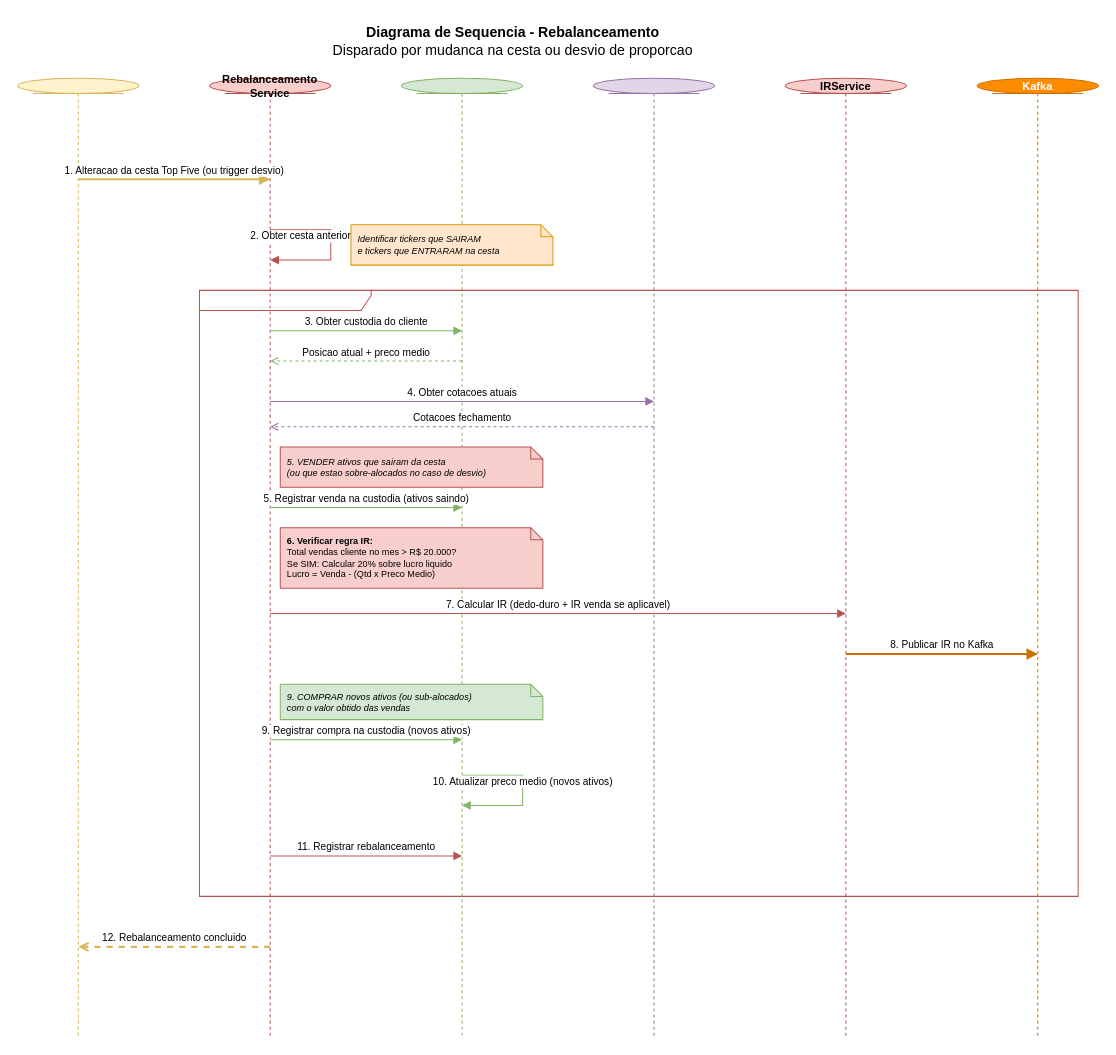
The diagram is 1116 pixels wide and 1055 high, and some of its shapes have lost their labels. The box of each missing label's shape, as (x1, y1, x2, y2) in pixels:
Admin / Trigger: (17, 77, 139, 1038)
CotacaoService: (592, 77, 715, 1038)
CustodiaService: (400, 77, 523, 1038)
LOOP - Para cada cliente ativo: (198, 289, 1078, 896)
